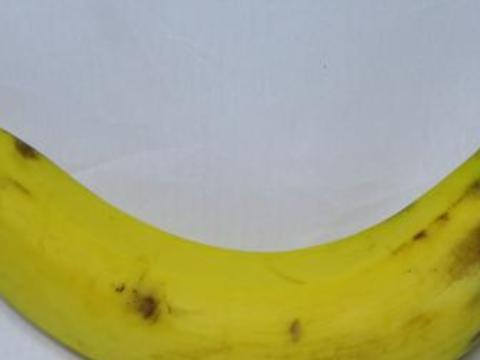freshripe: (0, 114, 479, 359)
